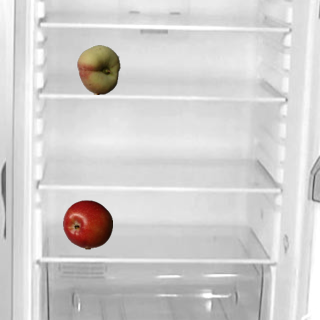Apple Braeburn: (62, 199, 112, 249)
Peach Flat: (73, 44, 123, 94)
